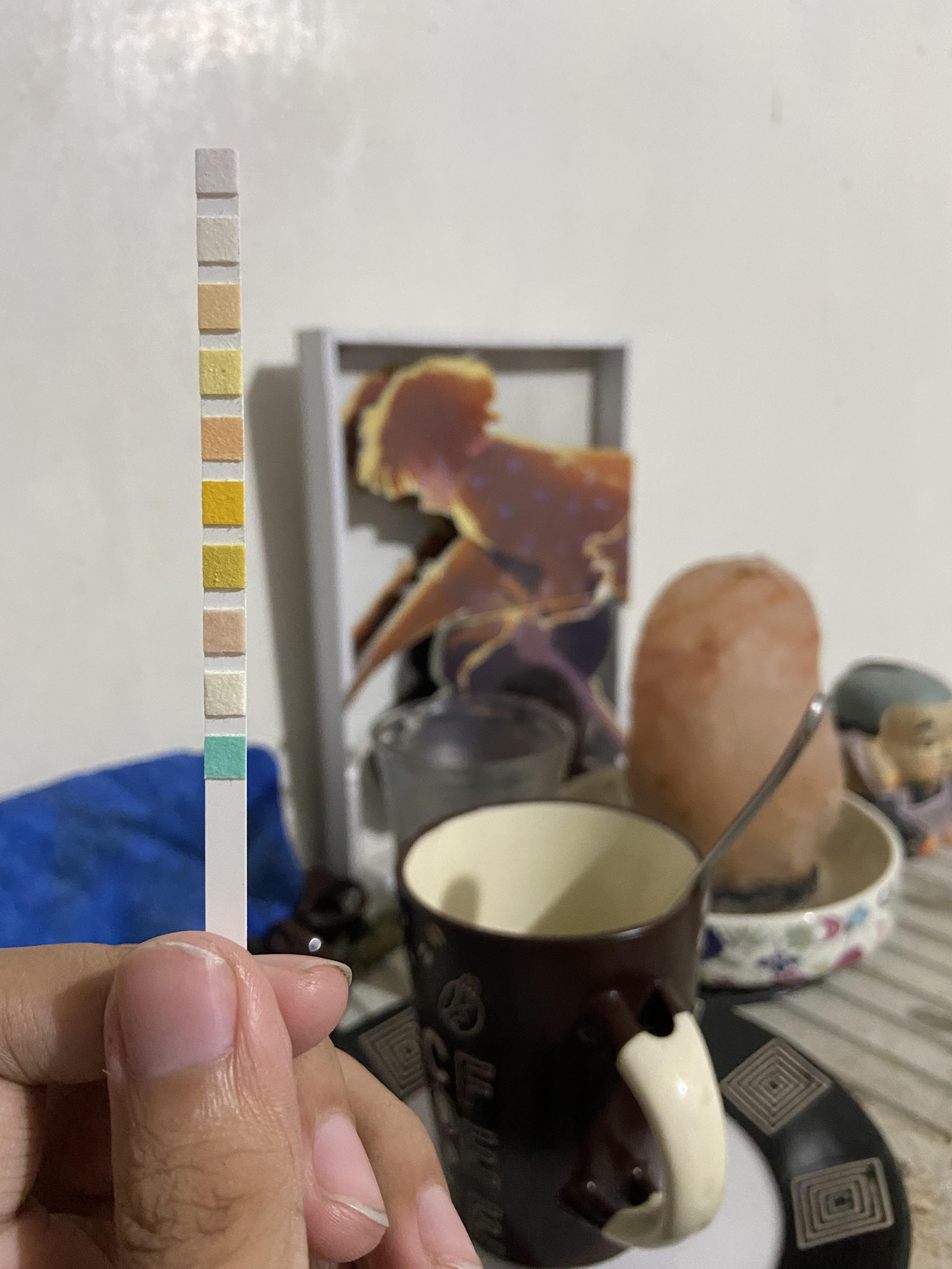Bilirubin: (206, 673, 245, 715)
Blood: (203, 481, 244, 524)
Glucose: (206, 737, 244, 778)
Ketone: (204, 609, 244, 654)
Leukocytes: (197, 150, 237, 195)
Nitrite: (198, 219, 238, 262)
Protein: (201, 351, 241, 395)
SpGravity: (203, 547, 245, 587)
Urobilinogen: (200, 285, 240, 329)
pH: (203, 417, 242, 459)
strip: (196, 148, 247, 930)
